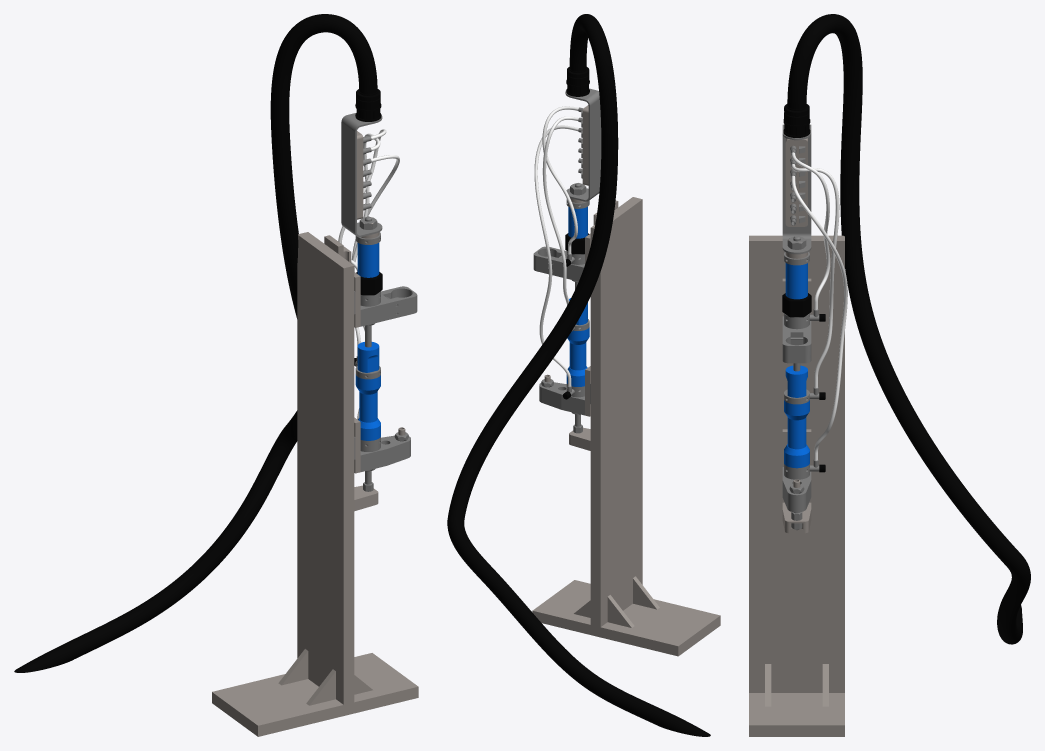
Rendered from Tightener_Static.obj.
3 renders of one model, left to right at view 1: azimuth 30°, elevation 25°; view 2: azimuth 150°, elevation 25°; view 3: azimuth 270°, elevation 25°, orthographic. The views are drawn at different scales.
Visible parts, largest first — view 1: Tightener_Machine_Static, Tightener_Machine_Static_Tightener_Machine_Static_Tightener_Mach, Tightener_Machine_Floating_X_Tightener_Machine_Floating_X_Tighte, Tightener_Machine_S1; view 2: Tightener_Machine_Static, Tightener_Machine_Static_Tightener_Machine_Static_Tightener_Mach, Tightener_Machine_Floating_X_Tightener_Machine_Floating_X_Tighte, Tightener_Machine_S1; view 3: Tightener_Machine_Static, Tightener_Machine_Static_Tightener_Machine_Static_Tightener_Mach, Tightener_Machine_Floating_X_Tightener_Machine_Floating_X_Tighte, Tightener_Machine_S1.
Part boxes in pixels (x1,y1,x2,y2): Tightener_Machine_Static: (212, 131, 418, 736); Tightener_Machine_Static_Tightener_Machine_Static_Tightener_Mach: (14, 14, 399, 672); Tightener_Machine_Floating_X_Tightener_Machine_Floating_X_Tighte: (341, 113, 417, 491); Tightener_Machine_S1: (355, 243, 380, 440); Tightener_Machine_Static: (532, 105, 720, 656); Tightener_Machine_Static_Tightener_Machine_Static_Tightener_Mach: (447, 14, 710, 736); Tightener_Machine_Floating_X_Tightener_Machine_Floating_X_Tighte: (533, 88, 601, 433); Tightener_Machine_S1: (566, 206, 589, 386); Tightener_Machine_Static: (749, 138, 844, 736); Tightener_Machine_Static_Tightener_Machine_Static_Tightener_Mach: (782, 14, 1030, 644); Tightener_Machine_Floating_X_Tightener_Machine_Floating_X_Tighte: (782, 124, 819, 530); Tightener_Machine_S1: (784, 263, 809, 468).
Size of the model in its own units: 549 by 1196 by 441.
